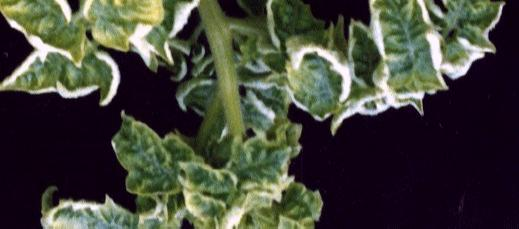Tomato leaf yellow virus: (0, 40, 128, 116), (365, 0, 445, 104), (106, 108, 186, 206), (282, 23, 354, 128), (41, 179, 173, 229), (0, 0, 93, 64), (82, 0, 180, 53), (431, 0, 510, 64)
